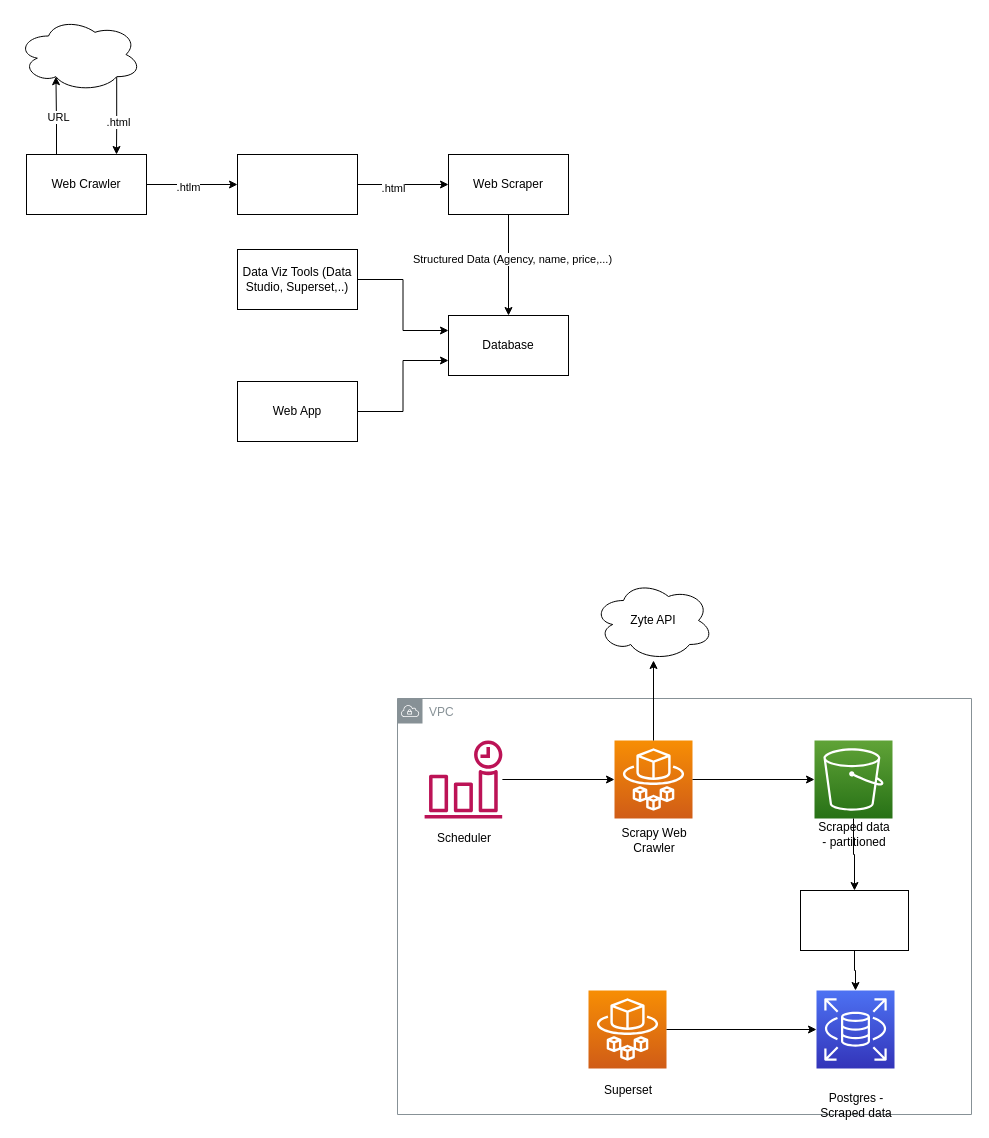
Some shapes in this 989 by 1138 pixel diagram are drawn without their labels. Each missing label, with the box of its shape:
Cloud Storage: (236, 154, 358, 214)
Scraper: (800, 890, 908, 950)
Scraping API: (16, 16, 142, 92)
